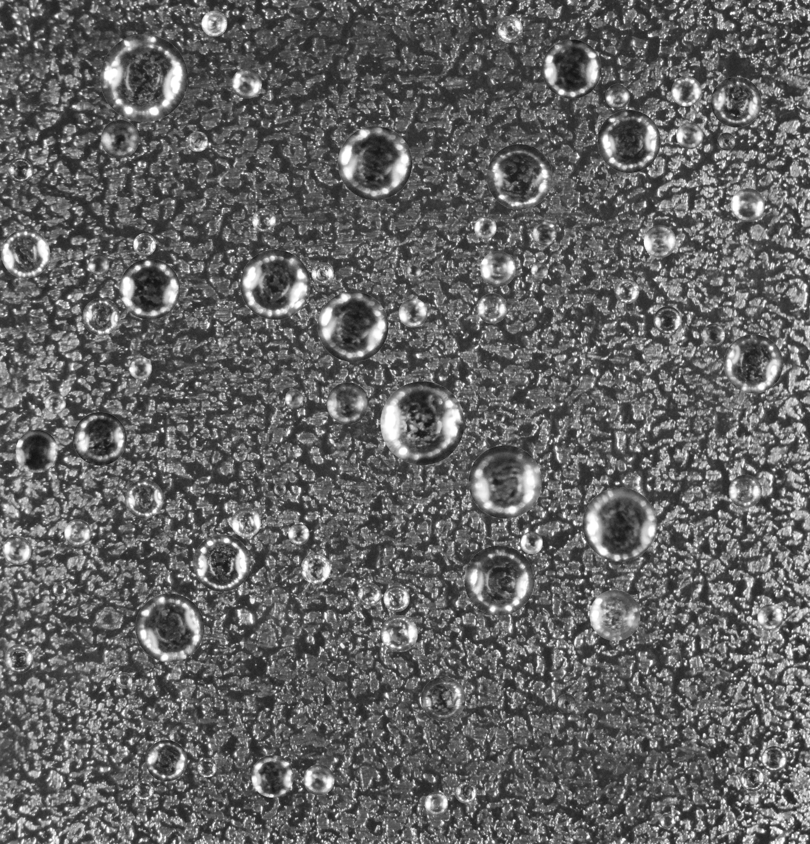Bubble: (100, 34, 187, 121), (380, 381, 464, 465), (338, 126, 412, 200), (582, 487, 656, 561), (468, 445, 541, 518), (317, 291, 388, 361), (240, 249, 310, 319), (464, 545, 534, 615), (135, 593, 204, 662), (486, 143, 552, 209), (597, 109, 660, 172), (119, 258, 180, 319), (724, 334, 783, 393), (542, 39, 601, 98), (193, 534, 250, 591), (73, 412, 126, 465), (711, 76, 761, 127), (589, 590, 640, 640), (1, 229, 49, 278), (421, 677, 465, 721), (15, 430, 58, 472), (326, 382, 368, 424), (251, 755, 293, 797), (145, 740, 187, 781), (124, 479, 163, 518), (100, 119, 138, 157), (380, 615, 417, 652), (82, 298, 119, 335), (480, 251, 515, 286), (731, 188, 764, 221), (728, 474, 761, 507), (643, 225, 676, 257), (303, 764, 334, 795), (231, 68, 261, 98), (300, 553, 330, 583), (671, 76, 701, 106), (477, 293, 507, 323), (231, 507, 260, 537), (398, 298, 427, 327), (4, 644, 33, 673), (2, 536, 31, 564), (653, 306, 681, 334), (676, 122, 703, 149), (64, 519, 90, 546), (757, 604, 783, 630), (496, 16, 522, 42), (201, 10, 227, 36), (383, 585, 409, 611), (761, 746, 787, 771), (740, 766, 765, 791), (605, 84, 630, 108), (614, 279, 639, 303), (8, 158, 32, 182), (357, 583, 381, 606), (533, 221, 556, 245), (252, 208, 275, 232), (424, 792, 448, 815), (702, 323, 725, 346), (129, 356, 151, 379), (520, 531, 542, 554), (311, 262, 333, 284), (133, 233, 155, 255), (474, 216, 496, 238), (44, 392, 65, 414), (455, 781, 476, 803), (88, 254, 109, 275), (288, 523, 309, 544), (187, 131, 207, 151), (556, 693, 576, 713), (134, 780, 153, 799), (197, 758, 216, 777), (717, 132, 735, 150), (285, 389, 303, 407), (531, 262, 548, 278), (115, 672, 132, 688), (406, 263, 421, 278), (659, 814, 674, 828), (52, 582, 65, 596), (273, 483, 285, 495), (493, 411, 504, 423)
